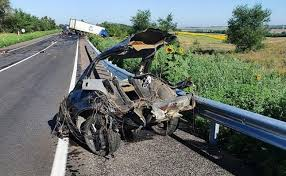car: (51, 39, 194, 137)
